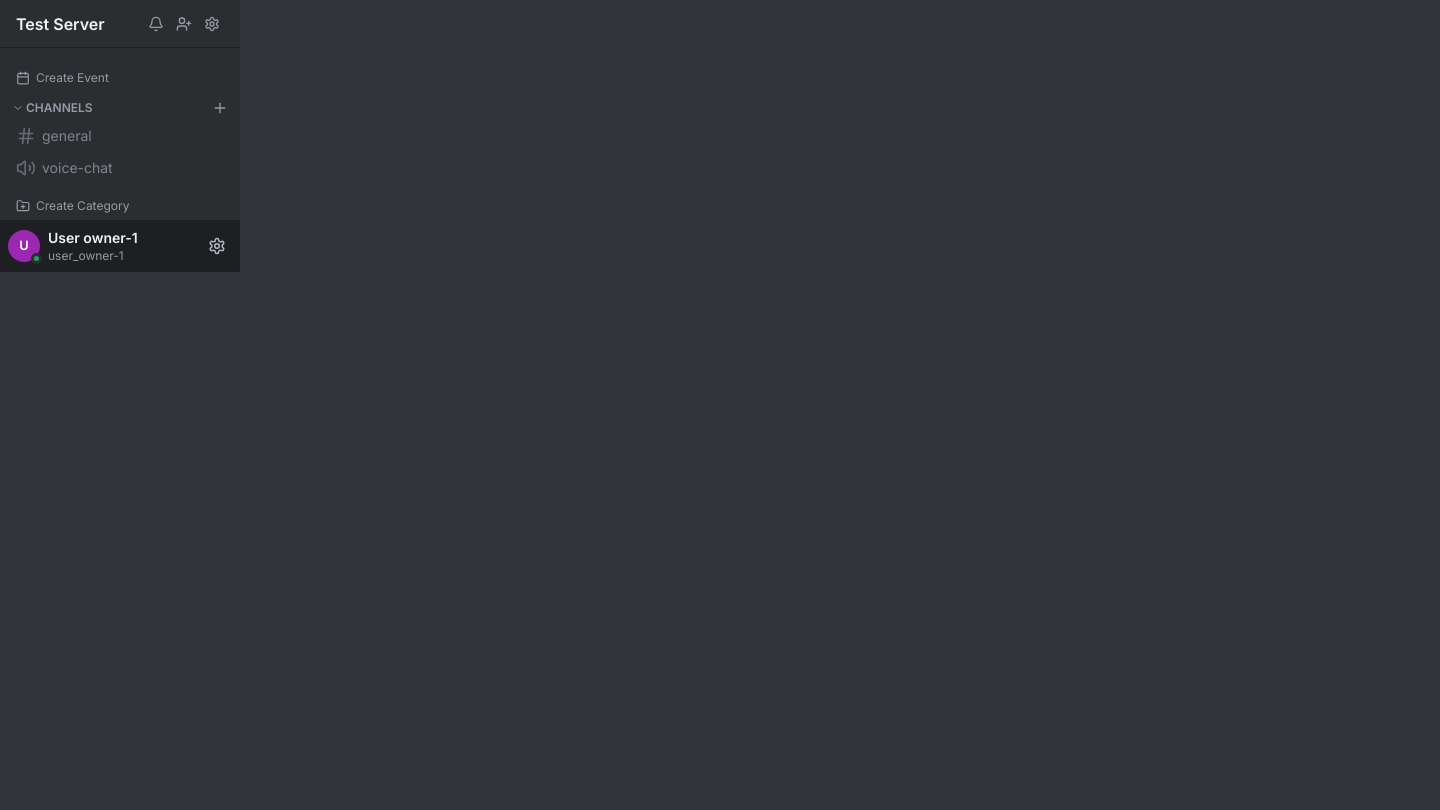
Test: ChannelSidebar › opens invite modal
Click the button titled "Invite People": (184, 24) [172,12,196,36]
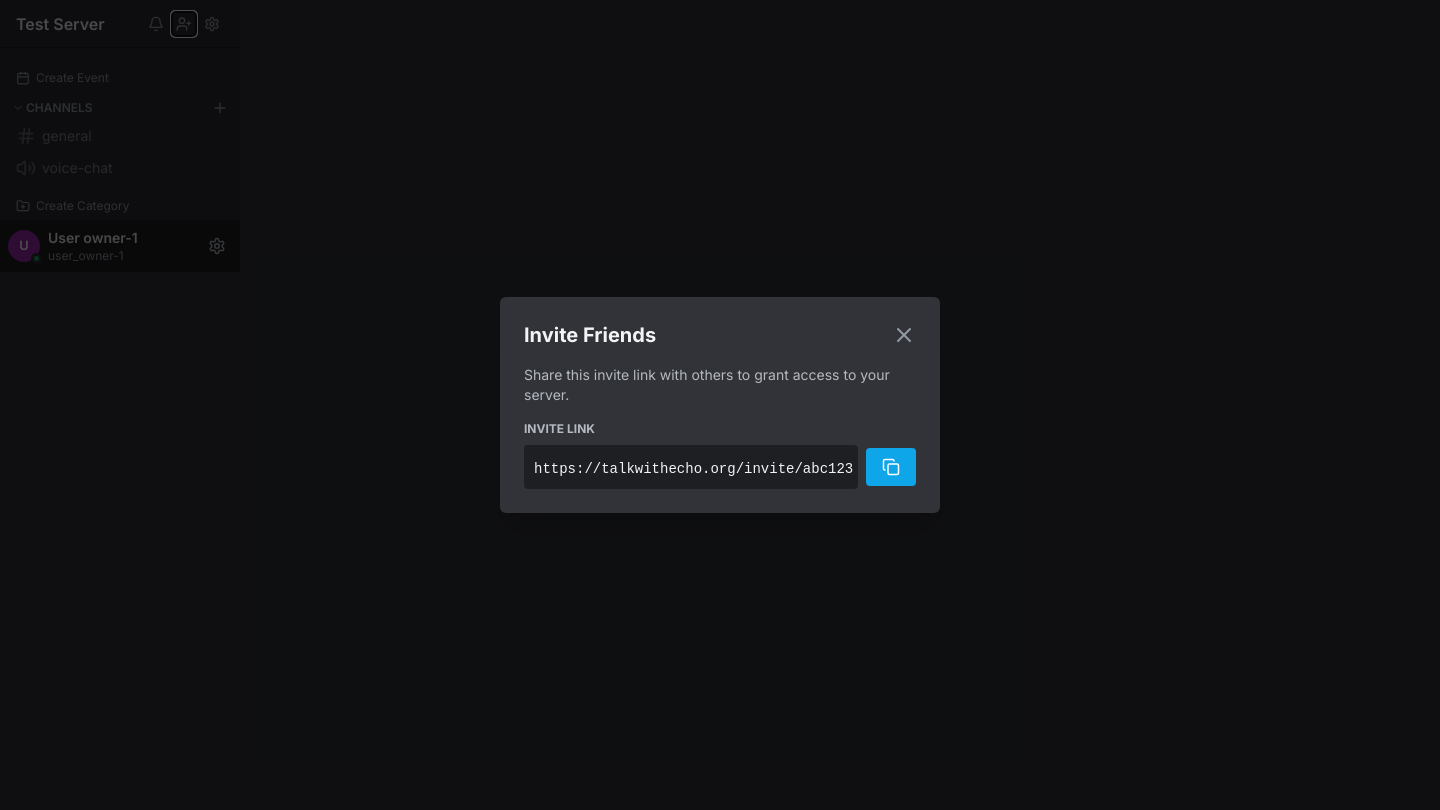
Expected: the heading "Invite Friends" is shown, [524,321,656,349]
